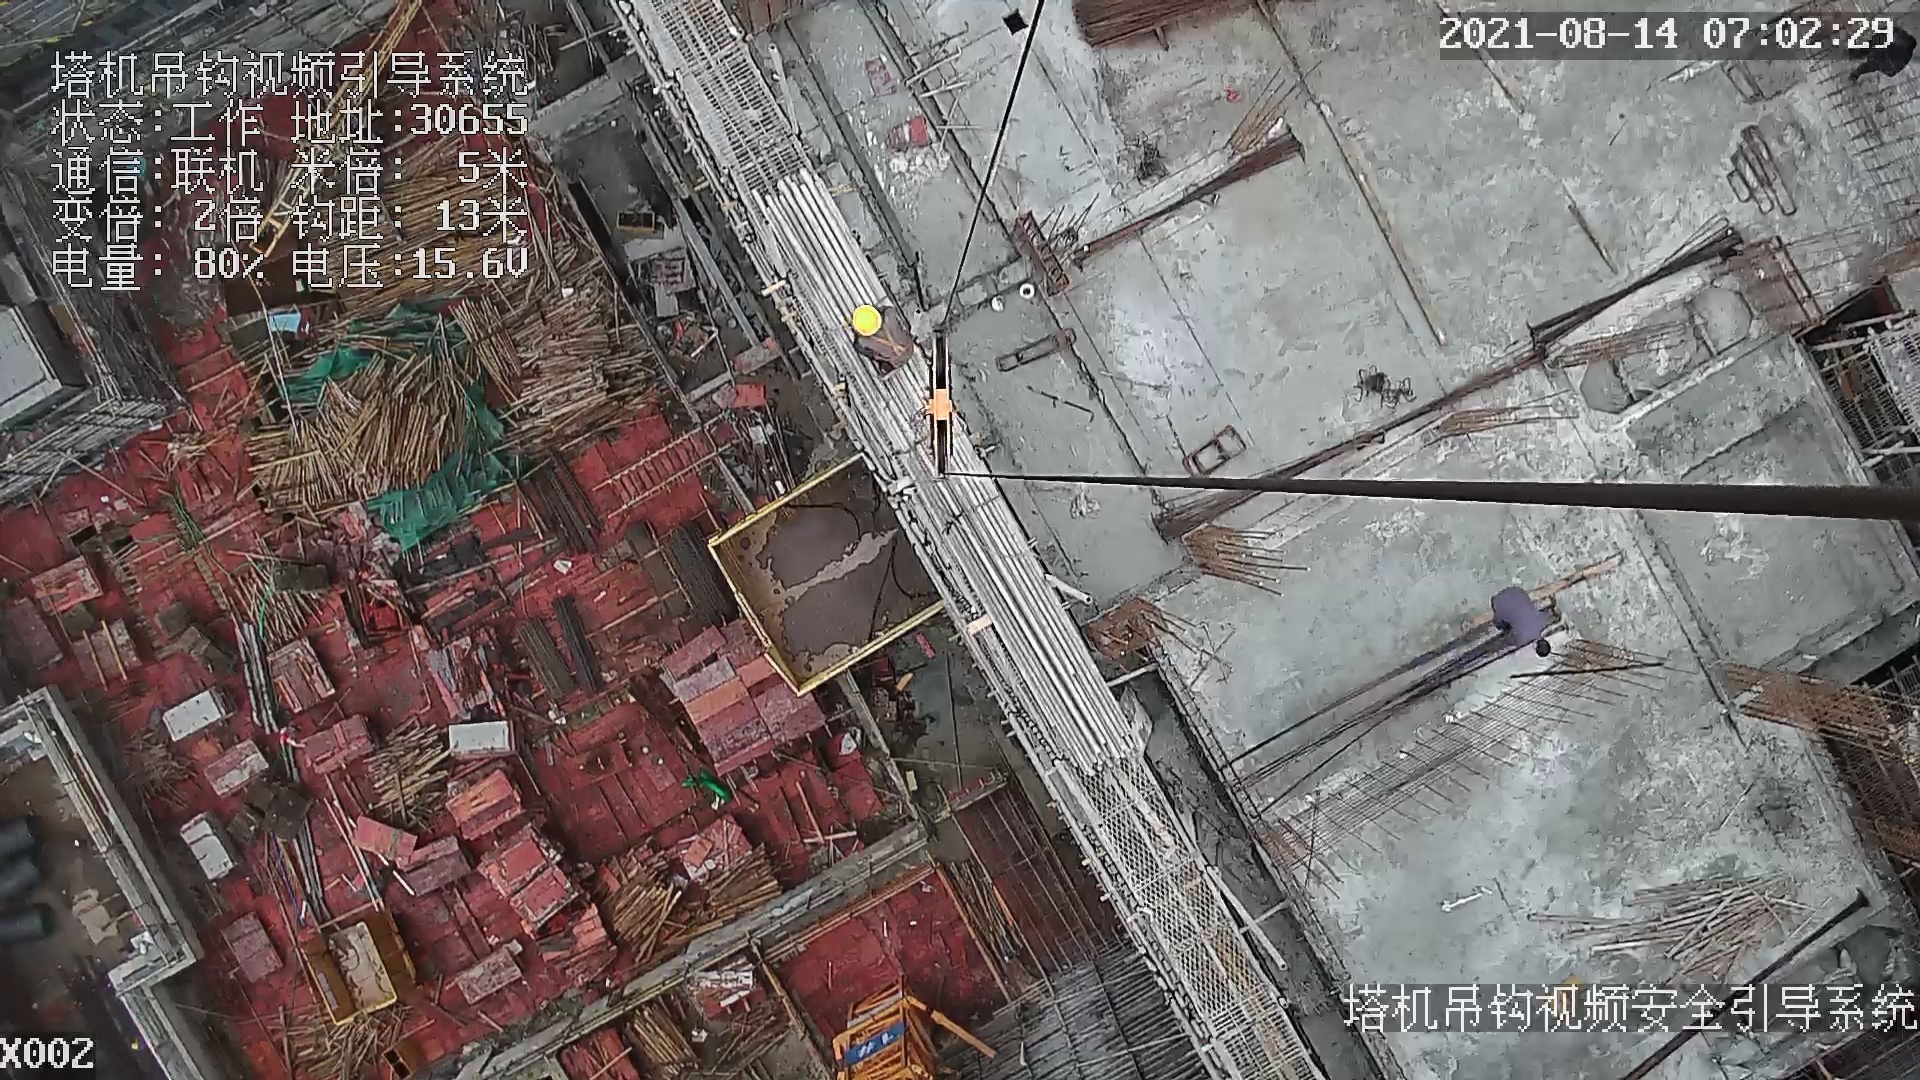helmet: (852, 303, 884, 338)
hook: (922, 332, 960, 487)
person: (1479, 585, 1567, 662), (849, 304, 914, 371)
slogan: (846, 1022, 905, 1058)
